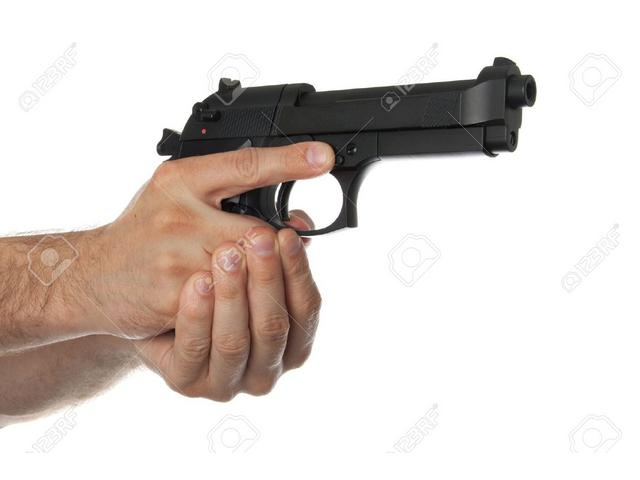pistol: (157, 59, 539, 355)
